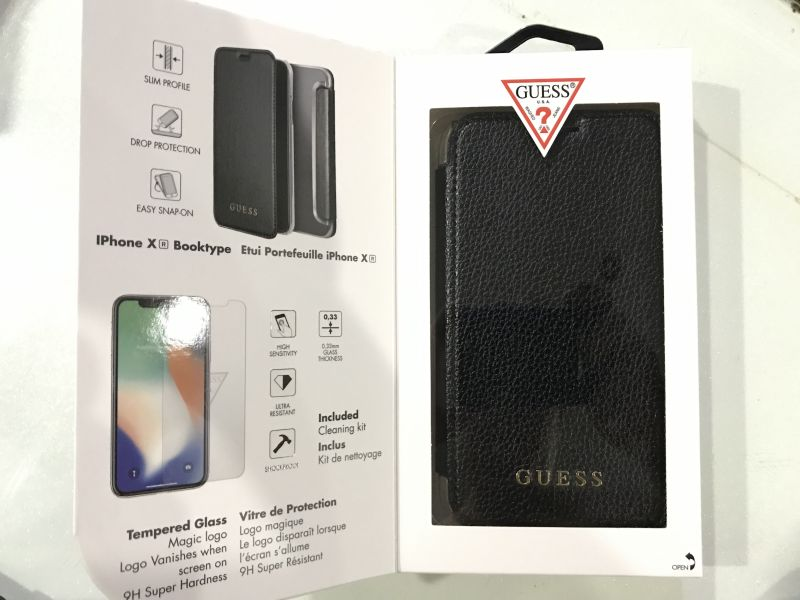Guess: (503, 464, 613, 496), (507, 78, 584, 103)
